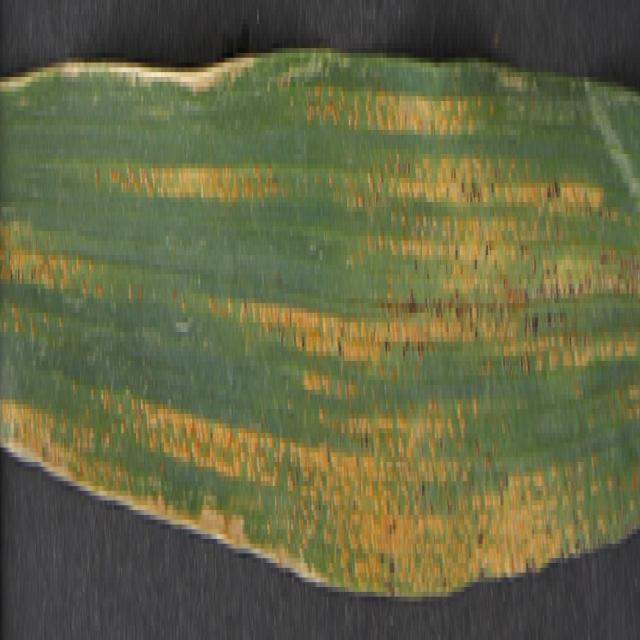leaf rust: (1, 43, 638, 587)
